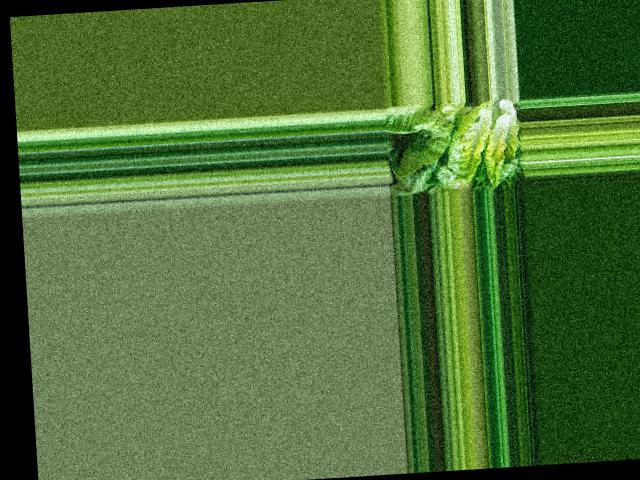lettuce: (430, 97, 522, 187)
